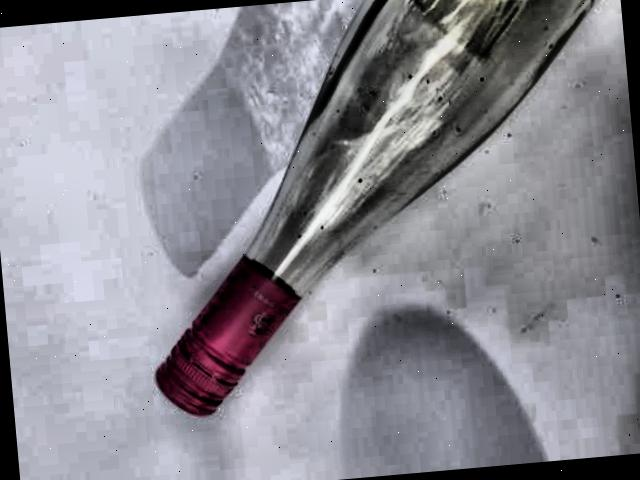Bottles: (86, 0, 633, 478)
